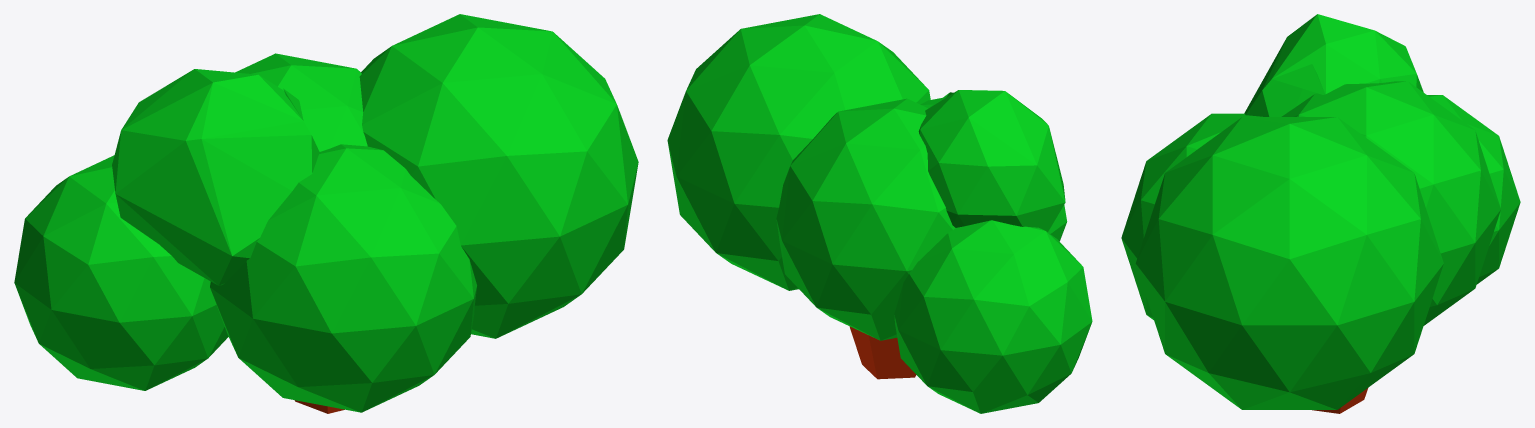
Rendered from bush02.fbx.
The picture shows the model from 3 angles, left to right: view 1: azimuth 30°, elevation 25°; view 2: azimuth 150°, elevation 25°; view 3: azimuth 270°, elevation 25°; orthographic projection. The views are drawn at different scales.
Parts seen in each view (by area): view 1: Cylinder; view 2: Cylinder; view 3: Cylinder.
Boxes of the visible parts, box(x1,y1,x2,y2) form: Cylinder: box(14, 14, 638, 413); Cylinder: box(667, 14, 1092, 413); Cylinder: box(1121, 14, 1520, 413).
Bounding box in the file's own units: 65.22 × 42.8 × 46.49.
